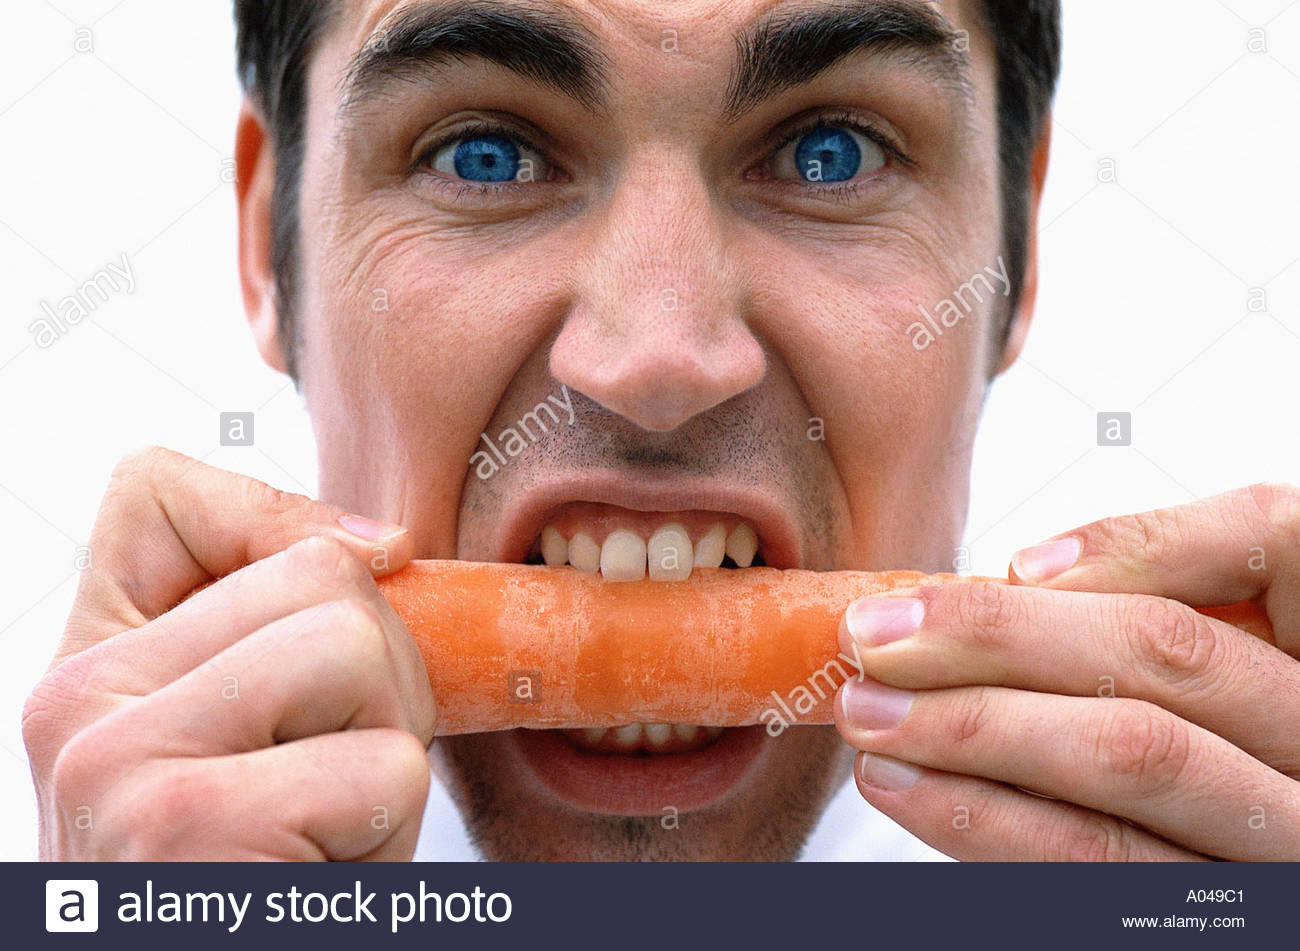eating: (88, 5, 1184, 795)
